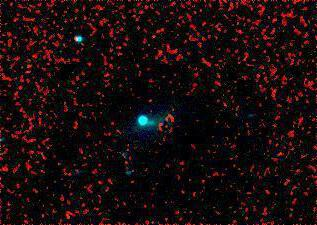star: (62, 22, 92, 52)
